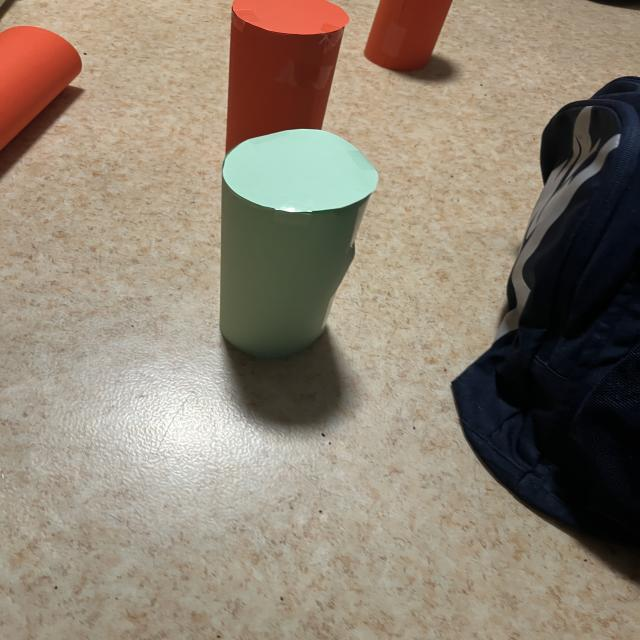meta: (219, 129, 378, 357)
przeszkoda: (226, 0, 349, 152), (0, 26, 82, 148), (364, 0, 452, 71)
